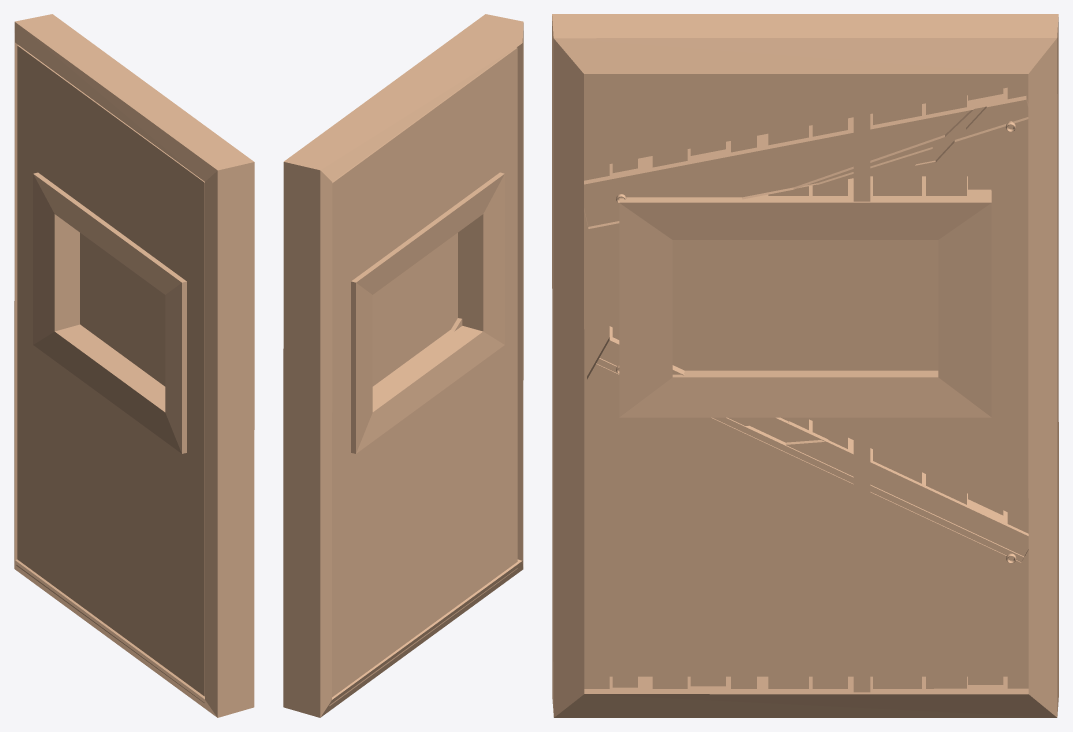
Rendered from Wall_Window_IMP.fbx.
The picture shows the model from 3 angles, left to right: view 1: azimuth 30°, elevation 25°; view 2: azimuth 150°, elevation 25°; view 3: azimuth 270°, elevation 25°; orthographic projection. The views are drawn at different scales.
Visible parts, largest first — view 1: Объект_Куб_3; view 2: Объект_Куб_3; view 3: Объект_Куб_3.
Part boxes in pixels (x1,y1,x2,y2): Объект_Куб_3: (14, 14, 254, 717); Объект_Куб_3: (283, 14, 523, 717); Объект_Куб_3: (552, 14, 1058, 717).
Bounding box in the file's own units: 22.9 × 214 × 144.
